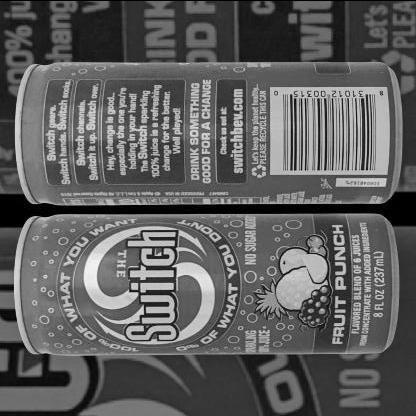alumunium_can: (12, 50, 407, 208), (9, 206, 405, 360)
